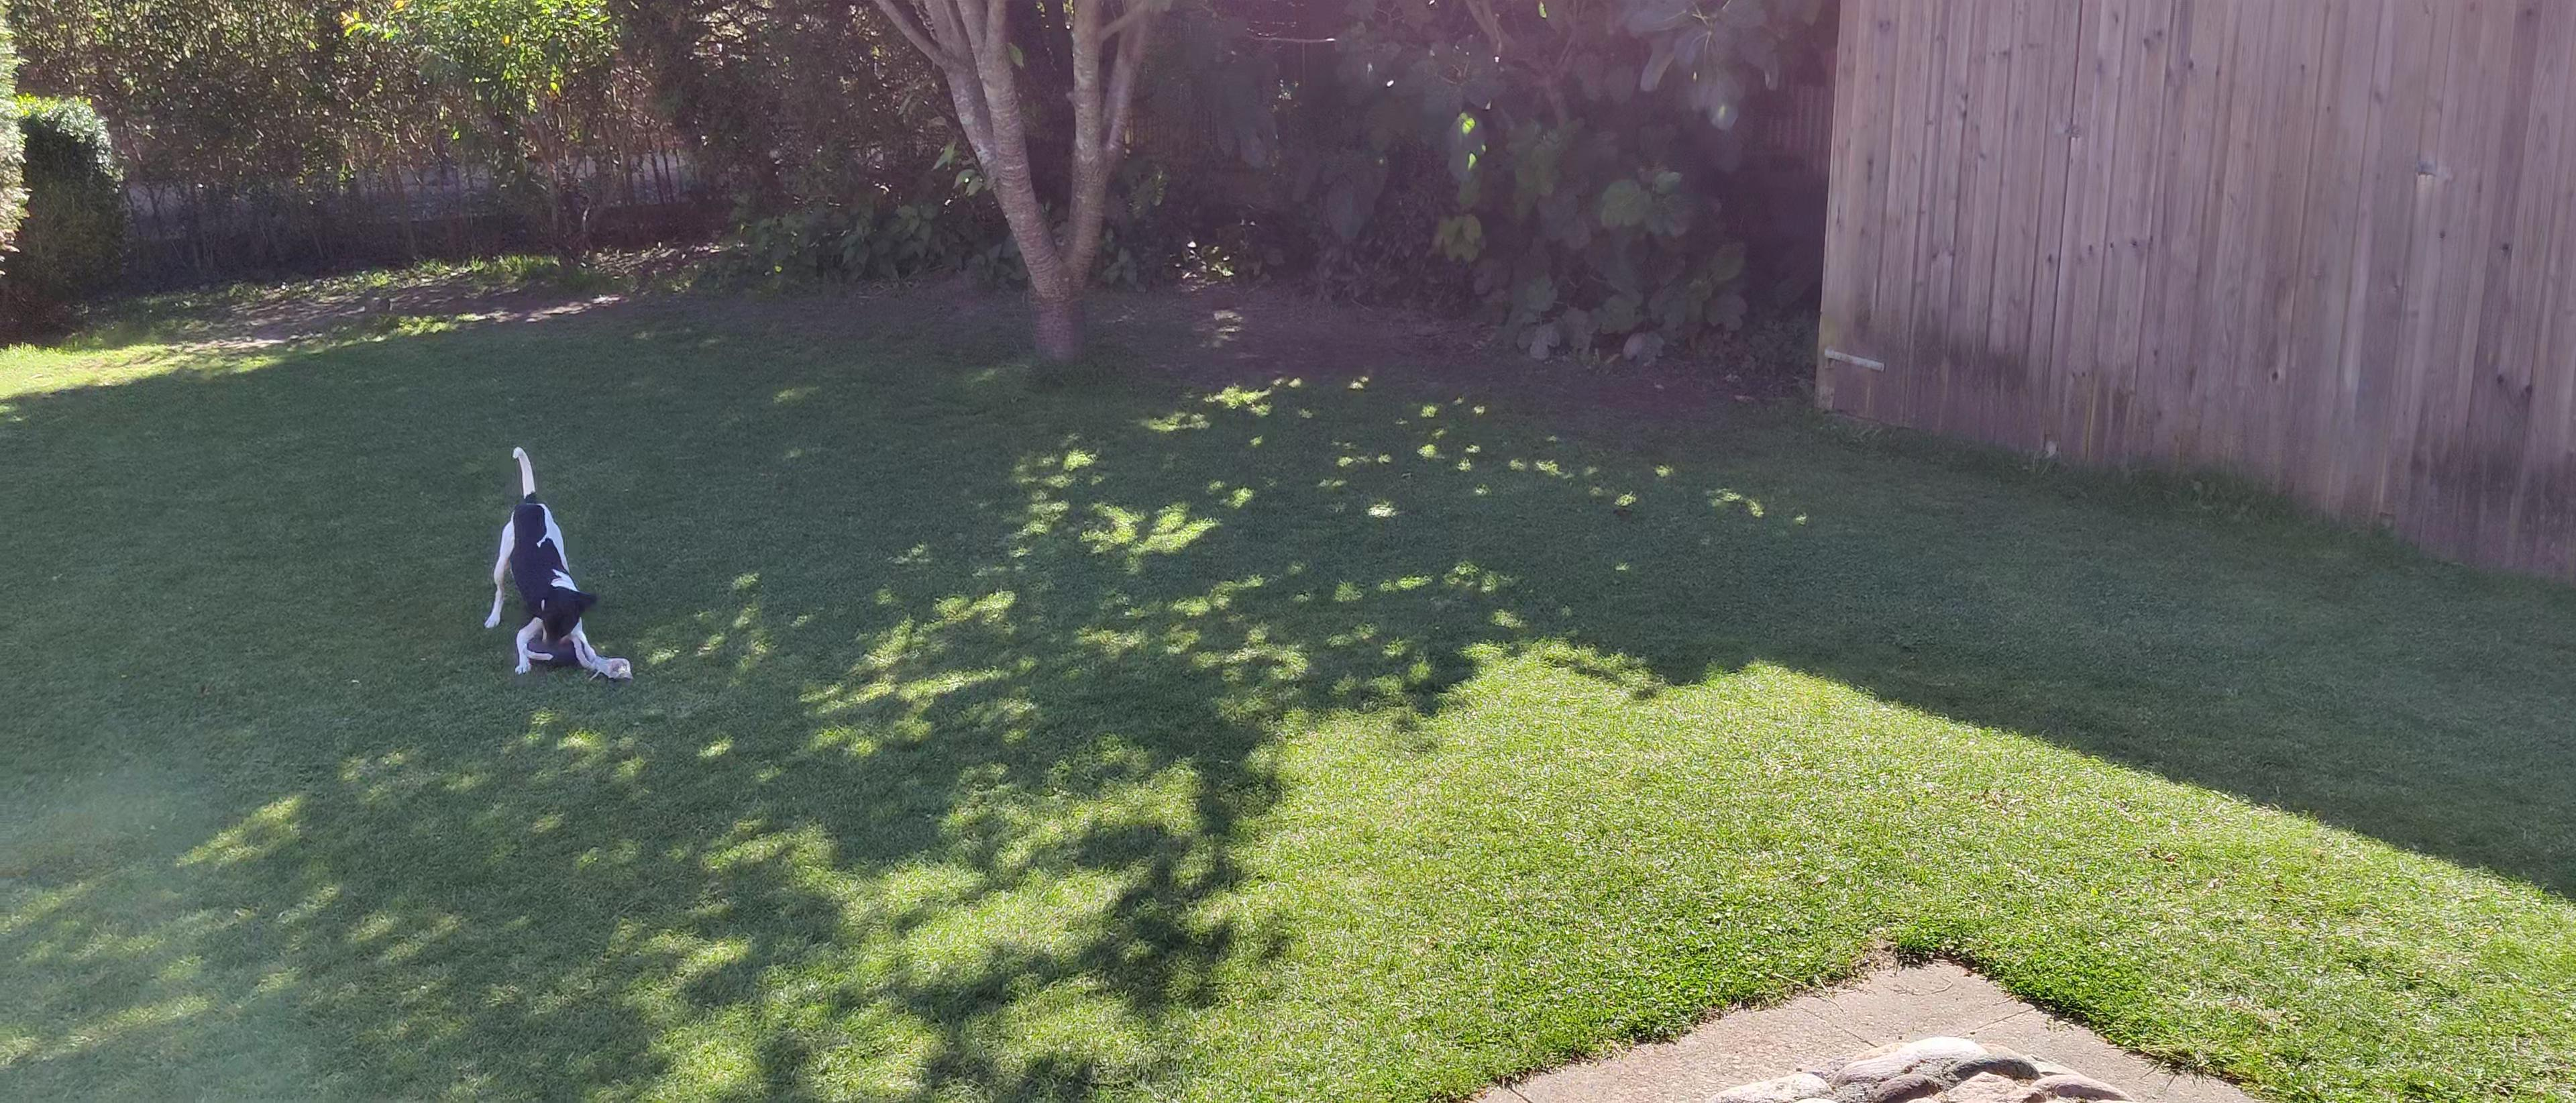Dog: (476, 436, 606, 677)
